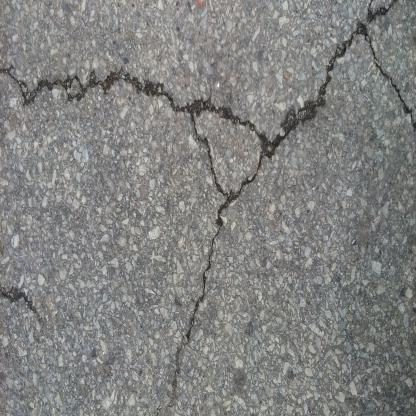Cracks: (174, 0, 416, 416), (0, 0, 276, 205)
